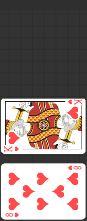8H: (66, 165, 82, 172)
